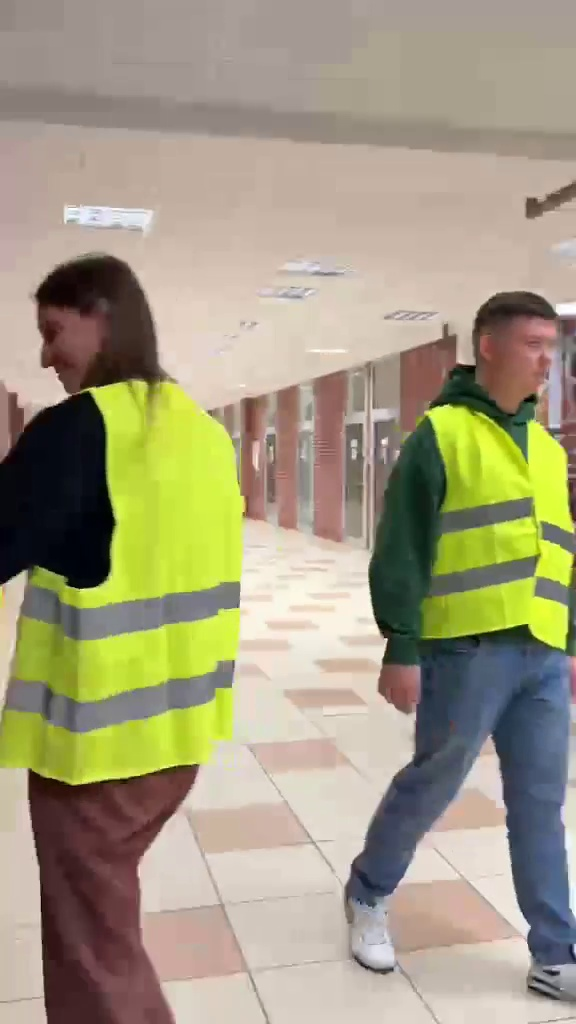vest: (0, 250, 236, 956), (351, 269, 573, 968)
